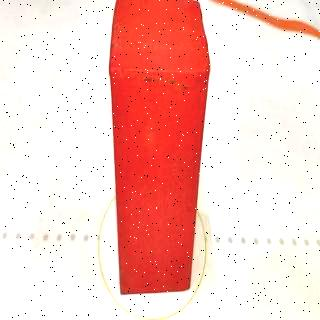redbox: (108, 0, 210, 296)
